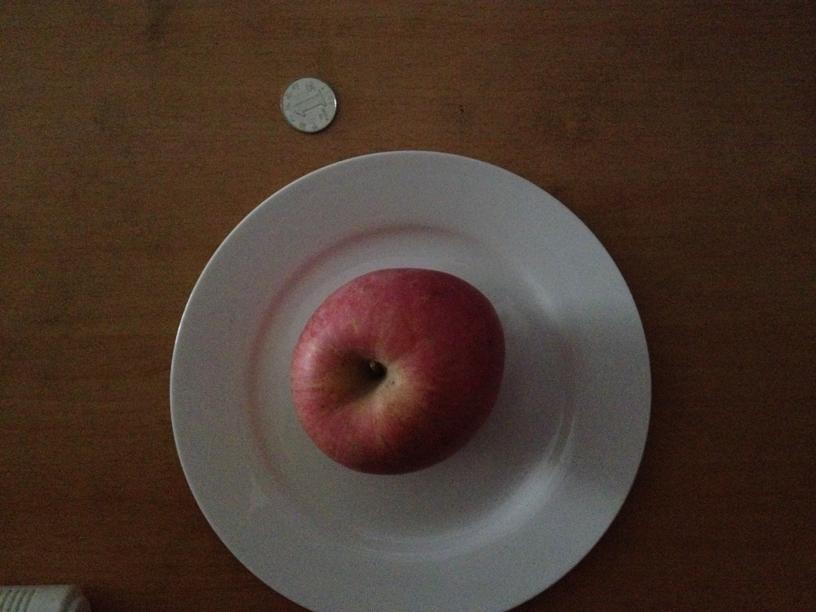apple: (291, 268, 507, 472)
coin: (278, 75, 337, 133)
